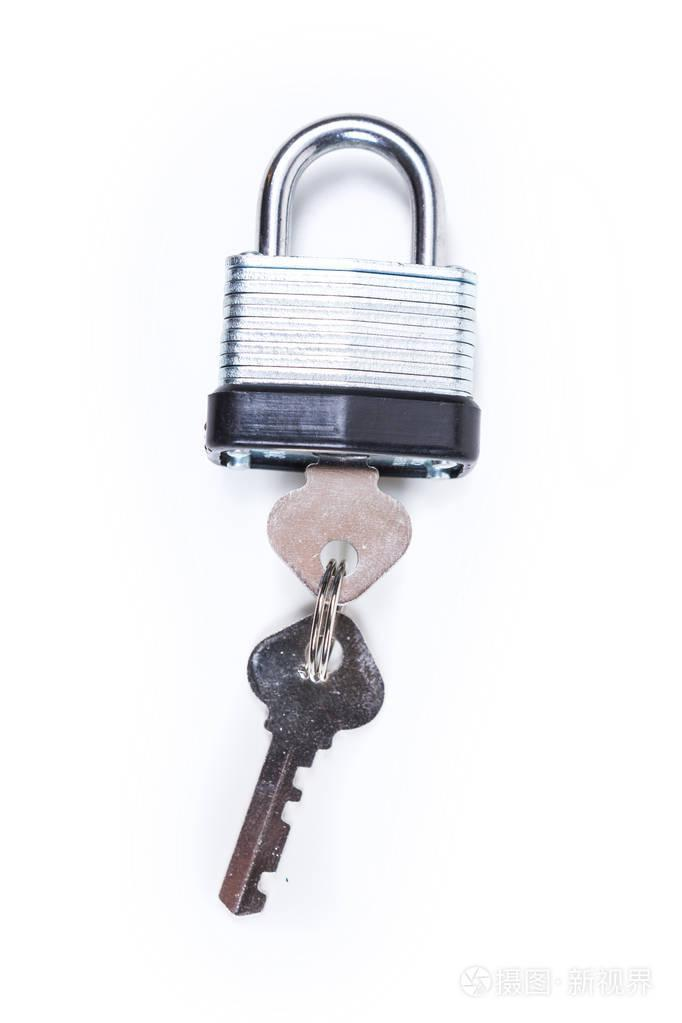key: (189, 598, 448, 951), (245, 399, 431, 615)
